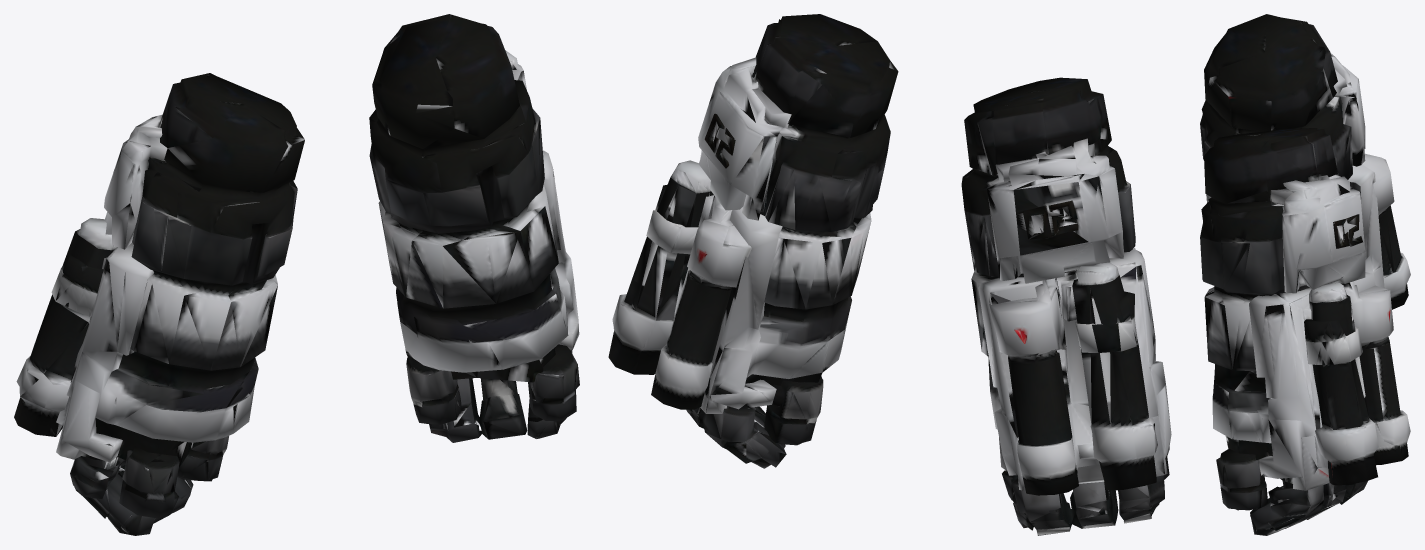
Rendered from numbers2_gauntlets.obj.
The picture shows the model from 3 angles, left to right: view 1: azimuth 30°, elevation 25°; view 2: azimuth 150°, elevation 25°; view 3: azimuth 270°, elevation 25°; orthographic projection. The views are drawn at different scales.
Visible parts, largest first — view 1: numbers2_gauntlets; view 2: numbers2_gauntlets; view 3: numbers2_gauntlets.
Part boxes in pixels (box(x1,y1,x2,y2)): numbers2_gauntlets: box(14, 14, 579, 535); numbers2_gauntlets: box(608, 14, 1171, 535); numbers2_gauntlets: box(1200, 14, 1410, 535).
Bounding box in the file's own units: 0.4242 × 0.32 × 0.1617.
